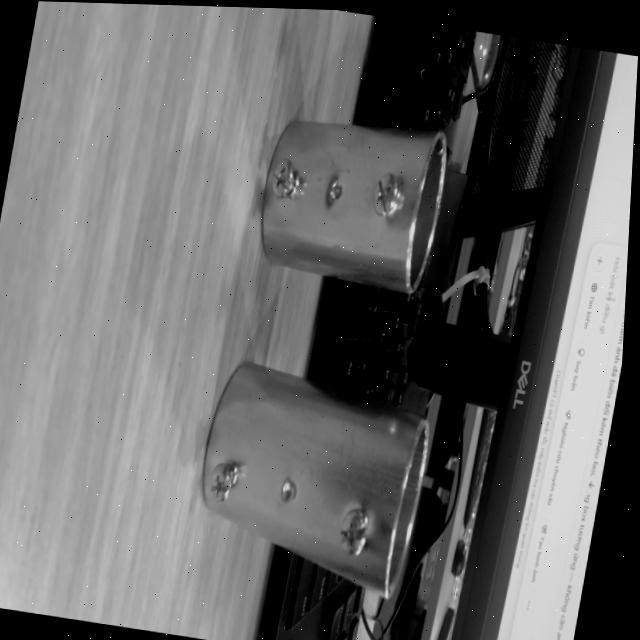Co_Lon: (177, 356, 446, 600)
Co_Nho: (251, 104, 451, 295)
